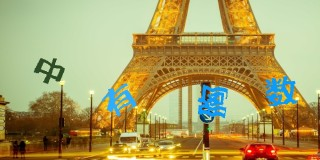中: (33, 56, 64, 84)
数: (264, 75, 298, 107)
有: (102, 83, 137, 116)
胸: (197, 83, 229, 119)
